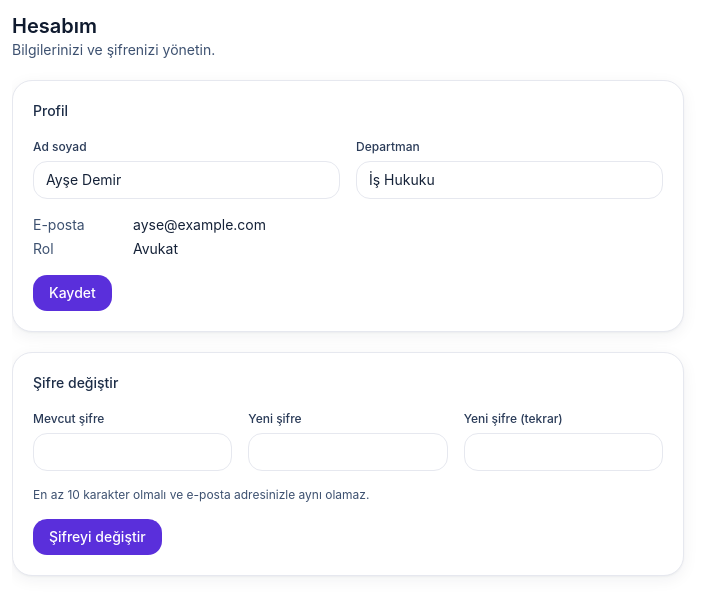
Test: AccountView profile › shows only ApiError messages, otherwise a Turkish fallback
Check: the heading "Hesabım" is shown, box [12,14,97,38]
Click the button "Kaydet" at (72, 293), box [33,275,112,311]
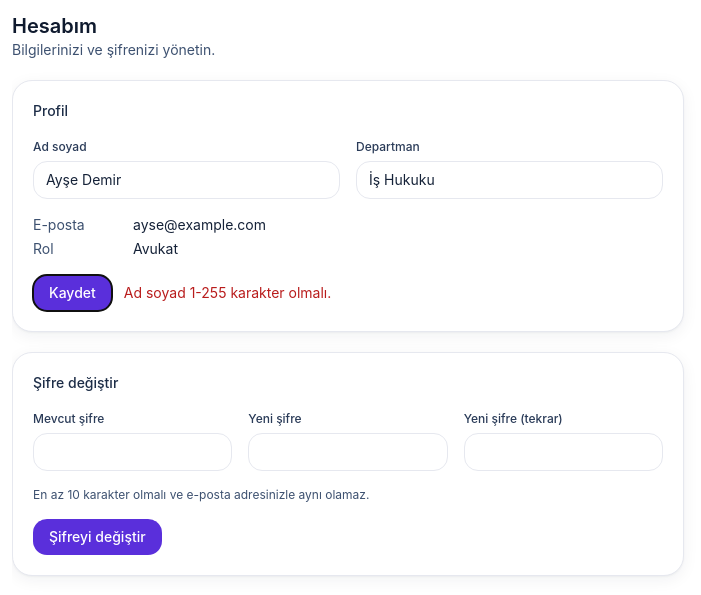
Check: the message reads "Ad soyad 1-255 karakter olmalı.", box [124,284,331,301]
Click the button "Kaydet" at (72, 293), box [33,275,112,311]
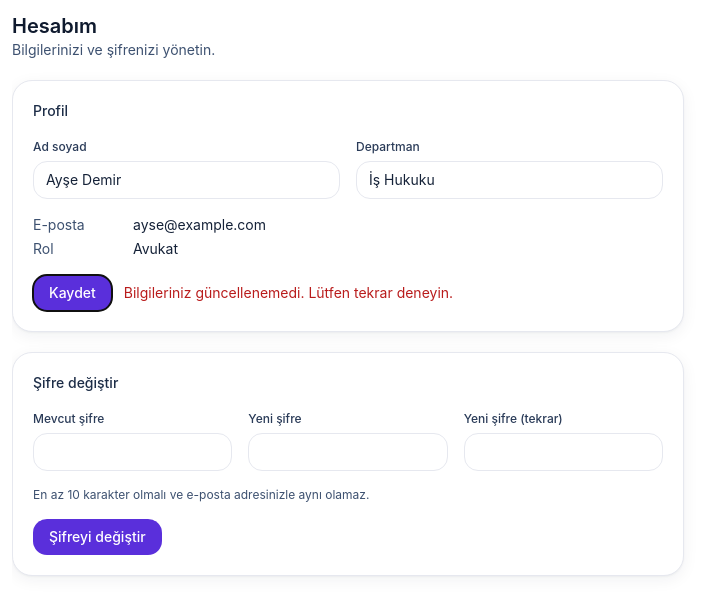
Check: the message does not show "Failed to fetch", box [124,283,453,303]
Check: the message reads "Bilgileriniz güncellenemedi. Lütfen tekrar deneyin.", box [124,284,453,301]
